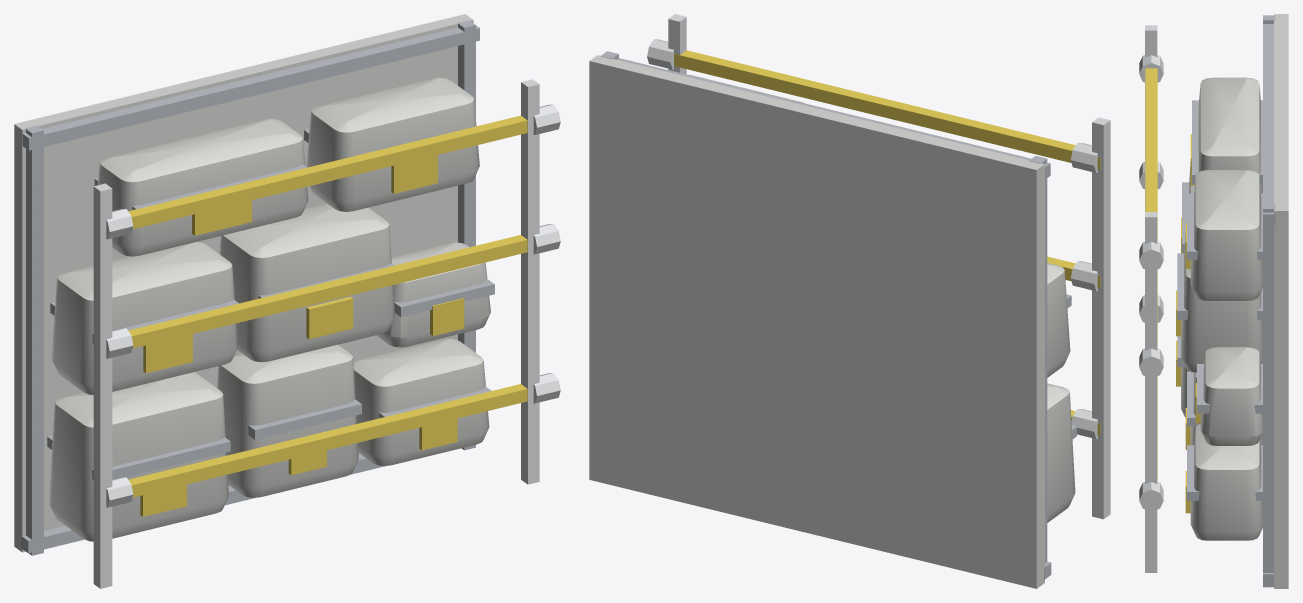
Rendered from orbital-station-and-docking-bays-stowage-bag-wall-d620ba3a__24577.glb.
3 views of the same model, side by side, from view 1: azimuth 30°, elevation 25°; view 2: azimuth 150°, elevation 25°; view 3: azimuth 270°, elevation 25° (orthographic). The views are drawn at different scales.
Parts seen in each view (by area): view 1: stowage-bag-wall; view 2: stowage-bag-wall; view 3: stowage-bag-wall.
Boxes of the visible parts, box(x1,y1,x2,y2) form: stowage-bag-wall: box(14, 14, 560, 588); stowage-bag-wall: box(589, 14, 1110, 588); stowage-bag-wall: box(1139, 14, 1288, 588).
Size of the model in its own units: 1.95 by 1.7 by 0.61.
